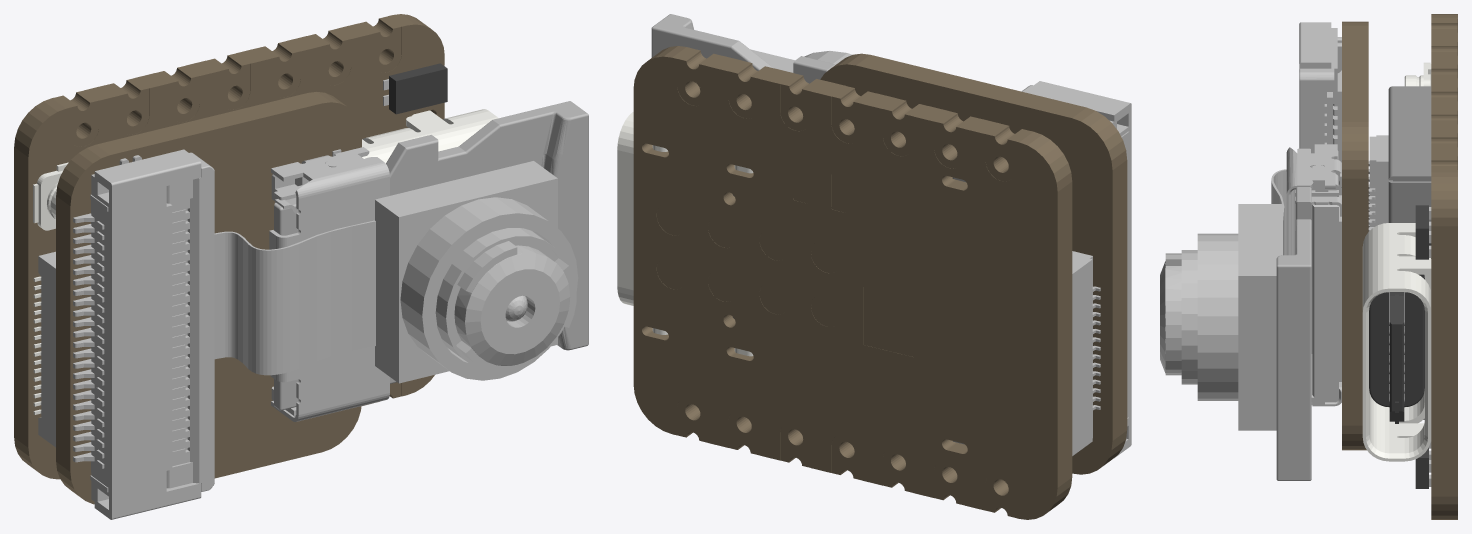
Rendered from xiao-esp32s3-sense.glb.
The picture shows the model from 3 angles, left to right: view 1: azimuth 30°, elevation 25°; view 2: azimuth 150°, elevation 25°; view 3: azimuth 270°, elevation 25°; orthographic projection. The views are drawn at different scales.
Size of the model in its own units: 0.0244 by 0.0178 by 0.014.
